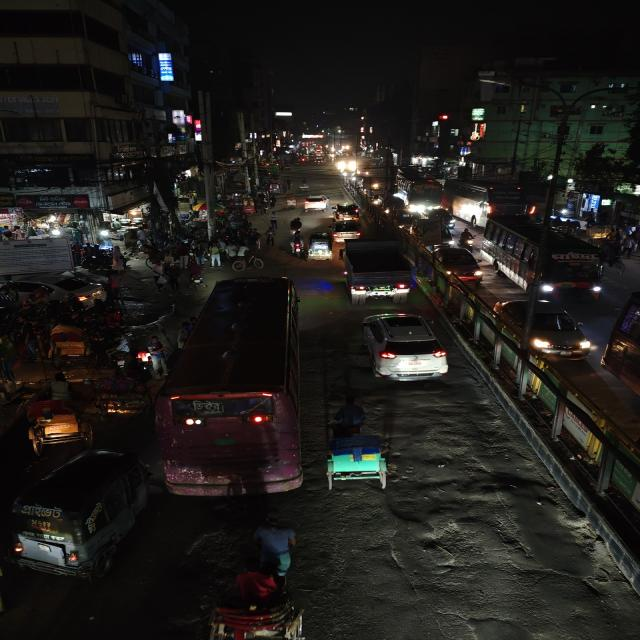bicycle: (228, 254, 274, 276)
bus: (162, 276, 304, 498), (480, 216, 608, 298), (603, 286, 640, 422), (449, 180, 532, 218), (396, 171, 444, 214)
car: (356, 310, 452, 384), (490, 296, 595, 362), (1, 271, 107, 309), (426, 245, 484, 283), (302, 193, 329, 213)
cng: (9, 449, 147, 587), (306, 232, 334, 262), (331, 202, 362, 224), (332, 220, 363, 238)
motorcycle: (184, 259, 205, 288), (457, 228, 478, 250), (288, 232, 304, 256), (288, 216, 304, 236), (267, 216, 280, 232)
pedestrian: (248, 516, 305, 588), (148, 259, 169, 290), (165, 262, 183, 292), (208, 244, 223, 268)
pickup_van: (336, 238, 418, 302)
rickshaw: (20, 380, 93, 451), (320, 429, 400, 493), (92, 368, 150, 419), (47, 325, 95, 372)
